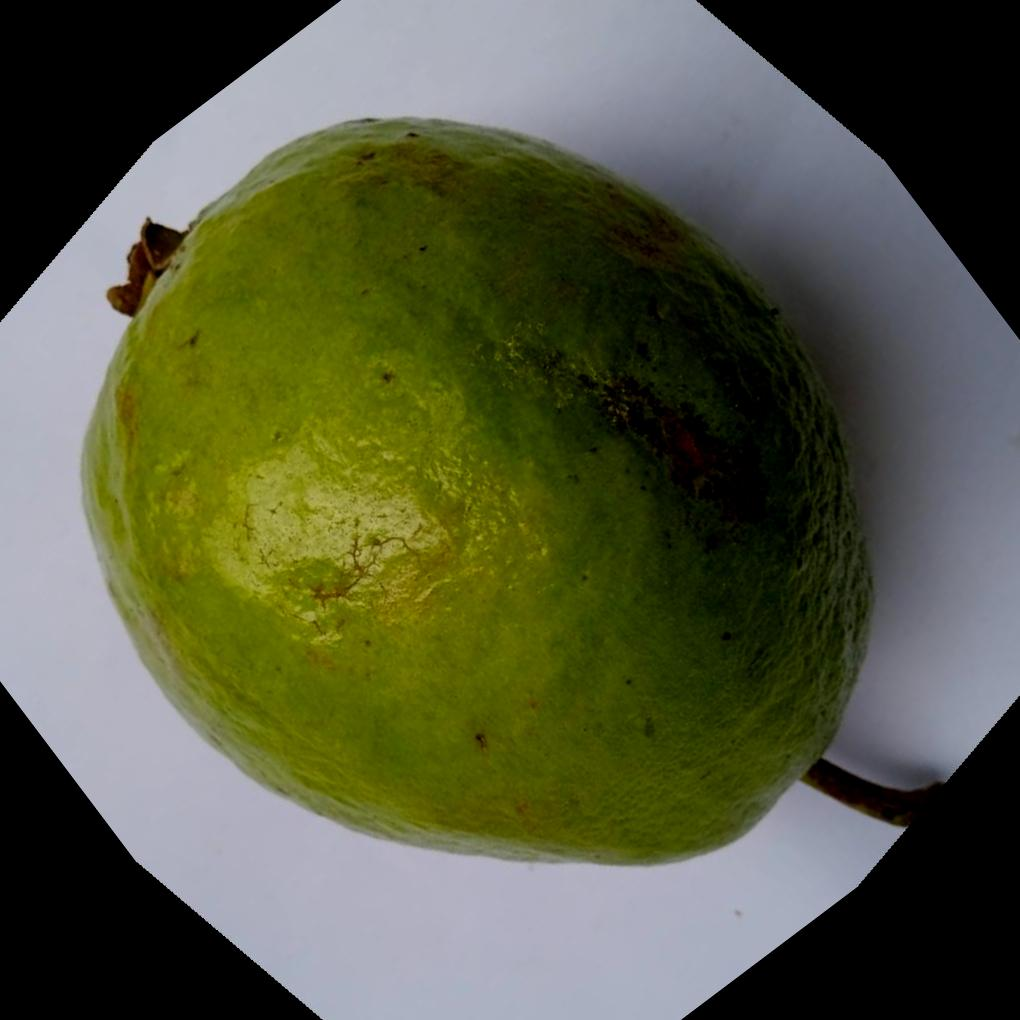FreshGuava: (79, 114, 879, 866)
